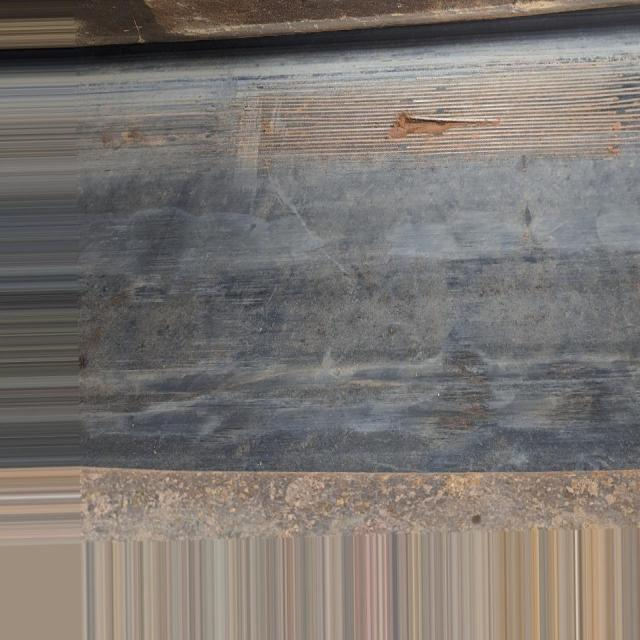impact damage: (263, 61, 639, 154)
